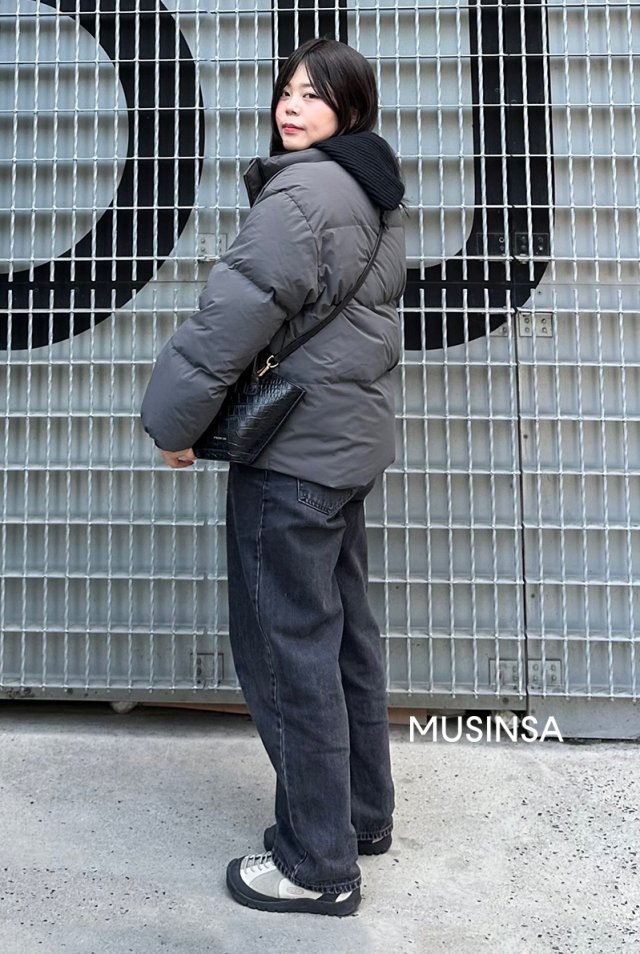Bubble jacket: (140, 152, 407, 491)
Handbag: (167, 373, 312, 460)
Hoodie: (316, 135, 406, 210)
Jeans: (226, 460, 394, 888)
Shoes: (227, 822, 395, 919)
